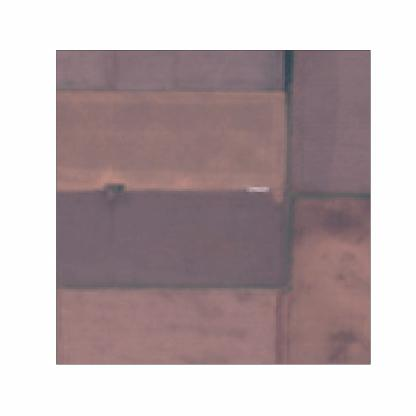silobolsa: (246, 186, 271, 194)
